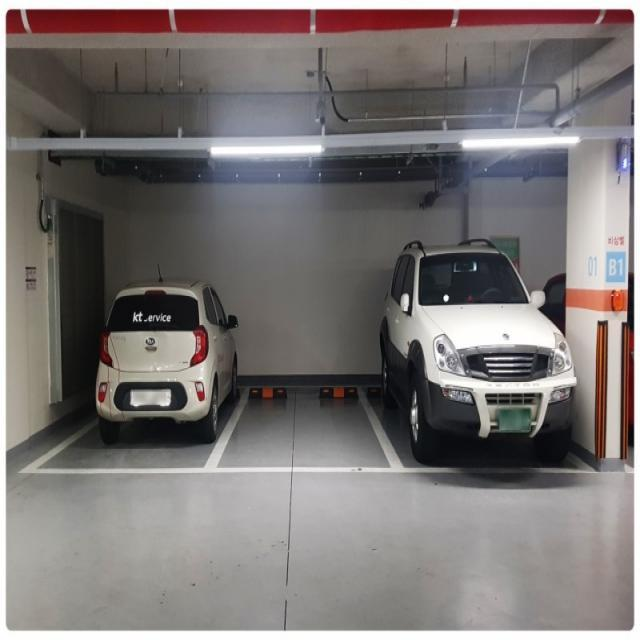Car: (384, 228, 605, 470), (84, 263, 222, 483)
Vacant: (208, 378, 392, 468)
